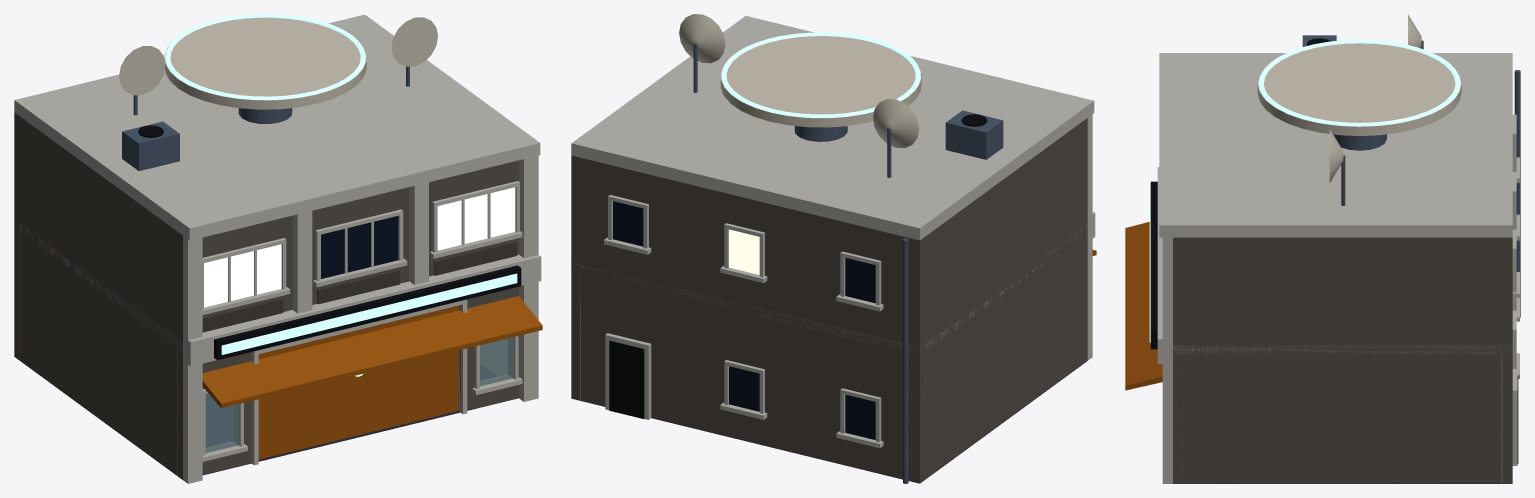
File: row_garage.glb
3 views of the same model, side by side, from view 1: azimuth 30°, elevation 25°; view 2: azimuth 150°, elevation 25°; view 3: azimuth 270°, elevation 25° (orthographic).
Visible parts, largest first — view 1: row_garage, door_shop_leaf; view 2: row_garage; view 3: row_garage.
Boxes of the visible parts, box(x1,y1,x2,y2) form: row_garage: box(14, 14, 542, 483); door_shop_leaf: box(258, 305, 458, 459); row_garage: box(571, 14, 1096, 483); row_garage: box(1125, 14, 1520, 483).
Bounding box in the file's own units: 12 × 10.8 × 11.64.
